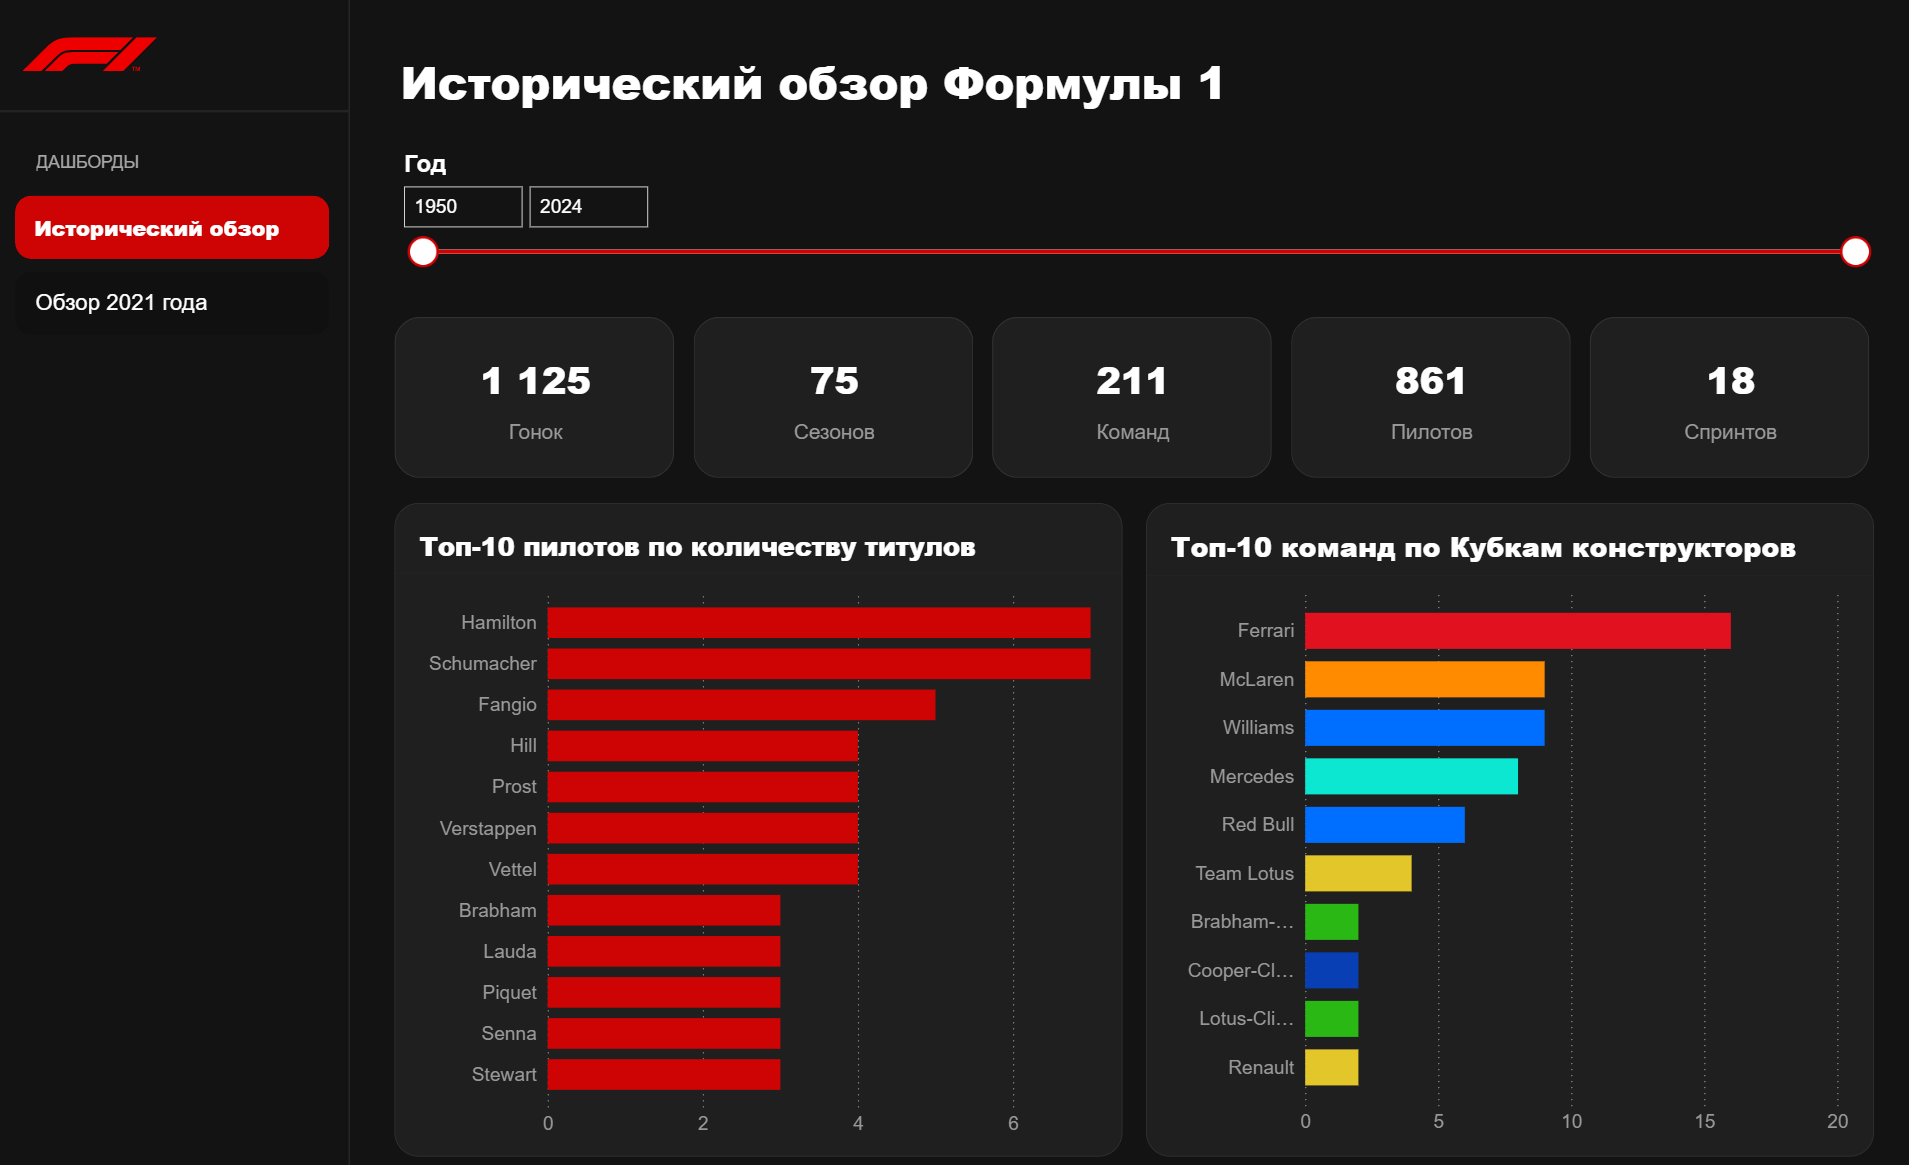

The page's visual inventory and layout, read from the dashboard file:
{"tool":"powerbi","page":{"name":"Исторический обзор","canvas":[1600,1000],"ordinal":0},"visuals":[{"type":"barChart","title":"Топ-10 команд по Кубкам конструкторов","fields":{"Category":["constructors.Hconstructor_name"],"Y":["Меры история.Титулованные команды"]},"box":[957.7,422.2,606.4,544.9],"z":1000},{"type":"barChart","title":"Топ-10 пилотов по количеству титулов","fields":{"Category":["drivers.Hdriver_name"],"Y":["Меры история.Титулованные пилоты"]},"box":[330.8,422.2,606.4,544.9],"z":2000},{"type":"cardVisual","fields":{"Data":["Меры история.Гонок","Меры история.Сезонов","Меры история.Команд","Меры история.Пилотов","Меры история.Спринтов"]},"box":[330.8,267.1,1233.3,134.6],"z":3000},{"type":"textbox","box":[330.8,38.5,967.9,71.8],"z":4000},{"type":"slicer","title":"ывава","fields":{"Values":["races.year"]},"box":[330.8,128.2,1233.3,142.3],"z":5000},{"type":"shape","box":[0,0,294,1080],"z":6000},{"type":"pageNavigator","box":[15.4,166.7,262.8,117.9],"z":7000},{"type":"image","box":[21.4,17.1,112.9,67.1],"z":8000},{"type":"textbox","box":[27.1,124.3,235.7,31.4],"z":9000},{"type":"shape","box":[0,79.5,293.6,32.1],"z":10000}]}

Visuals, with their boxes on the page's 1600x1000 design canvas (x1, y1, x2, y2). These are canvas units, not pixel positions in the 1909x1165 screenshot, which may show the page scaled, cropped or inside an application window:
"Топ-10 команд по Кубкам конструкторов" barChart: bbox=[958, 422, 1564, 967]
"Топ-10 пилотов по количеству титулов" barChart: bbox=[331, 422, 937, 967]
cardVisual - Меры история.Гонок x Меры история.Сезонов: bbox=[331, 267, 1564, 402]
textbox: bbox=[331, 38, 1299, 110]
"ывава" slicer: bbox=[331, 128, 1564, 270]
shape: bbox=[0, 0, 294, 1080]
pageNavigator: bbox=[15, 167, 278, 285]
image: bbox=[21, 17, 134, 84]
textbox: bbox=[27, 124, 263, 156]
shape: bbox=[0, 80, 294, 112]
